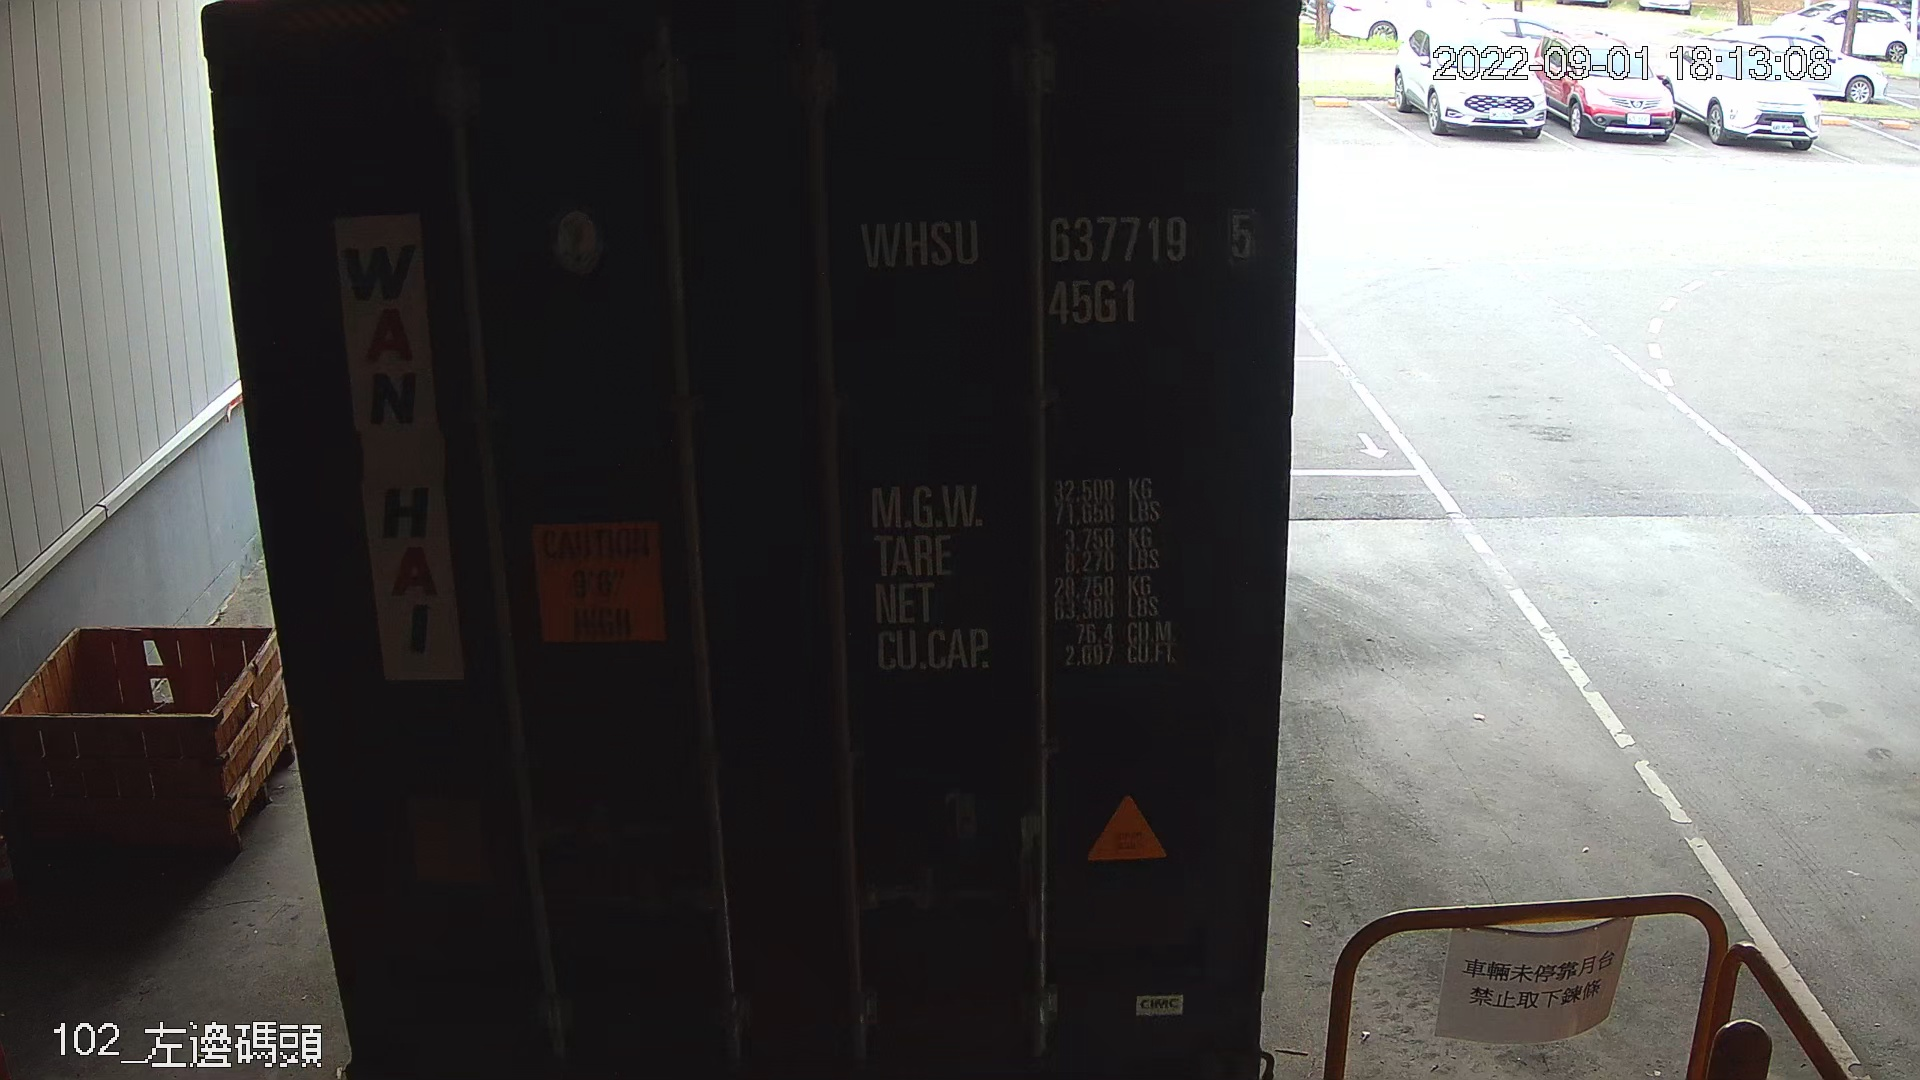container: (844, 196, 1270, 339)
